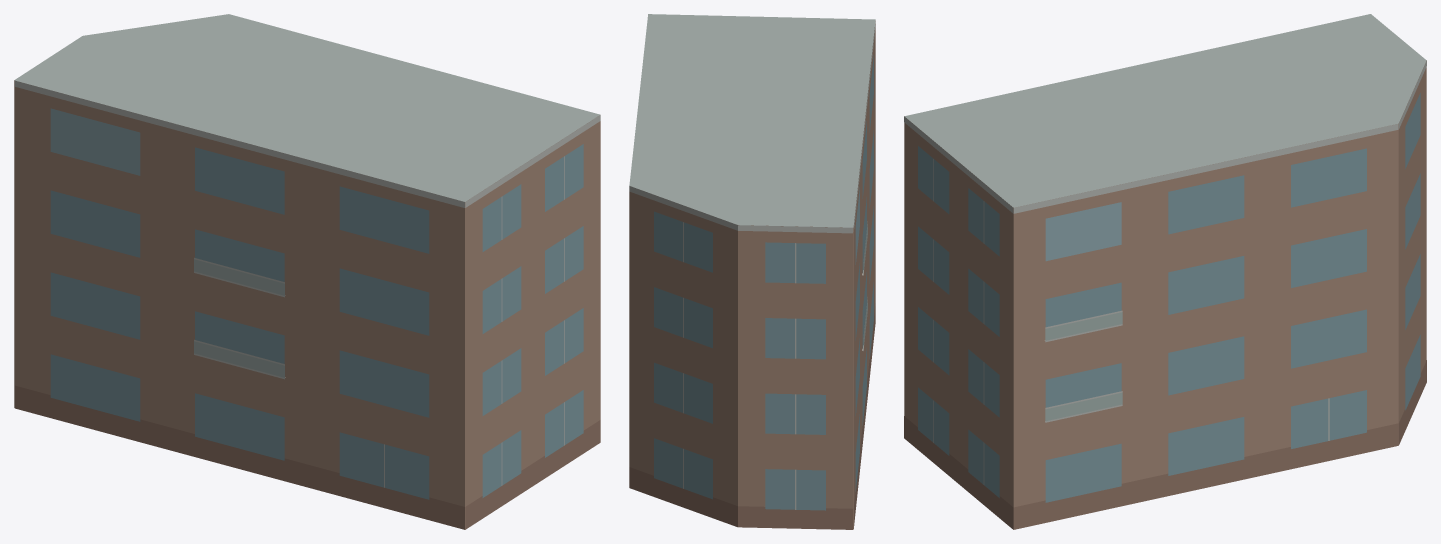
Rendered from survey-upis-32697385.glb.
The picture shows the model from 3 angles, left to right: view 1: azimuth 30°, elevation 25°; view 2: azimuth 150°, elevation 25°; view 3: azimuth 270°, elevation 25°; orthographic projection. The views are drawn at different scales.
Visible parts, largest first — view 1: survey-upis-32697385.tmp; view 2: survey-upis-32697385.tmp; view 3: survey-upis-32697385.tmp.
Part boxes in pixels (x1,y1,x2,y2): survey-upis-32697385.tmp: (14, 14, 600, 529); survey-upis-32697385.tmp: (629, 14, 875, 529); survey-upis-32697385.tmp: (904, 14, 1426, 529).
Bounding box in the file's own units: 16.66 × 12.9 × 18.98.
